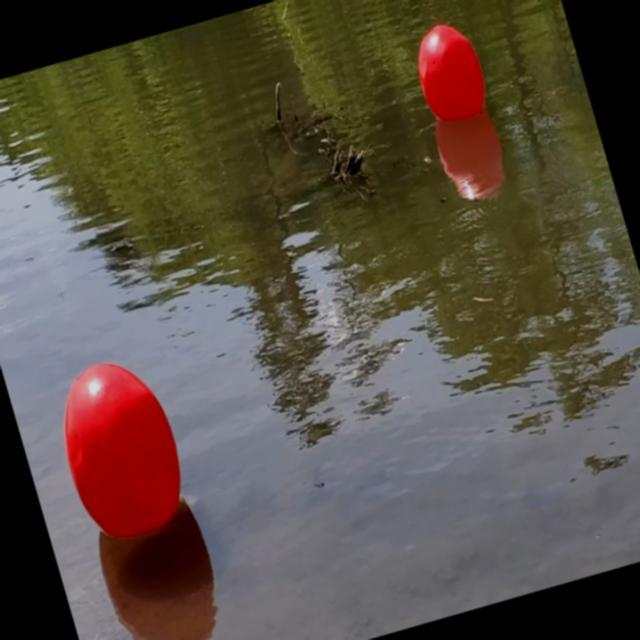buoy: (43, 348, 199, 552), (405, 14, 496, 134)
